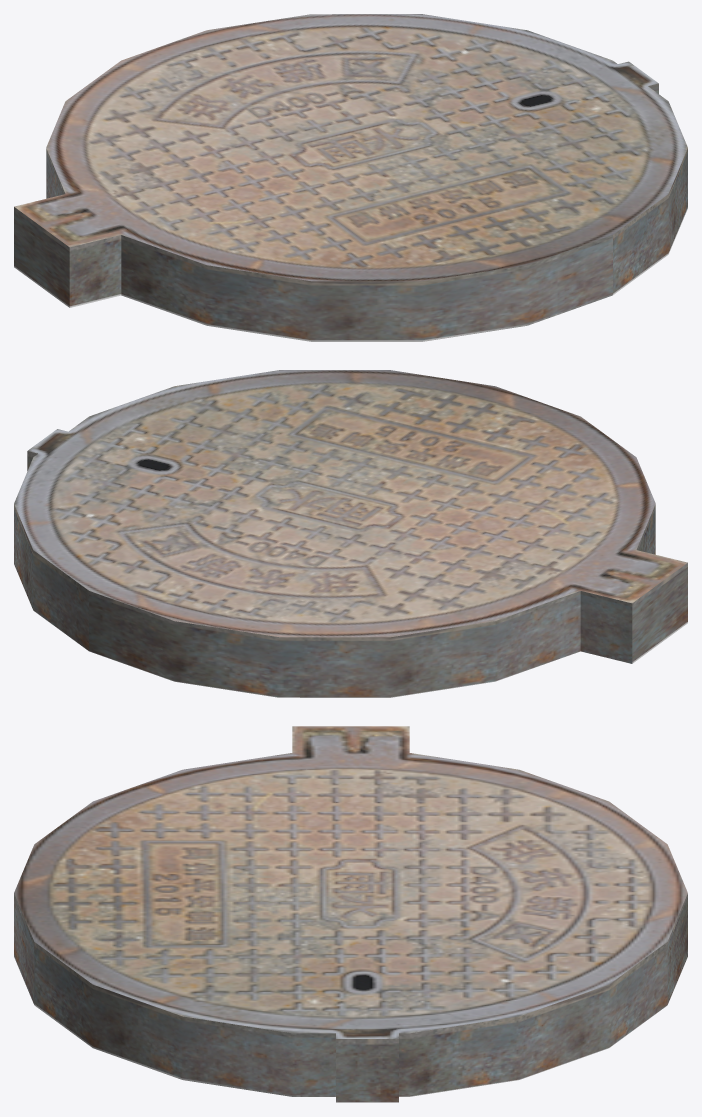
Rendered from jinggai_yushui.gltf.
The picture shows the model from 3 angles, top to bottom: view 1: azimuth 30°, elevation 25°; view 2: azimuth 150°, elevation 25°; view 3: azimuth 270°, elevation 25°; orthographic projection. The views are drawn at different scales.
Parts seen in each view (by area): view 1: jinggai07; view 2: jinggai07; view 3: jinggai07.
Part boxes in pixels (x1,y1,x2,y2): jinggai07: (14,14,687,341); jinggai07: (14,370,687,697); jinggai07: (14,726,687,1102).
Bounding box in the file's own units: 0.5267 × 0.05 × 0.48.
Materials: 1 (1 with a texture image).
